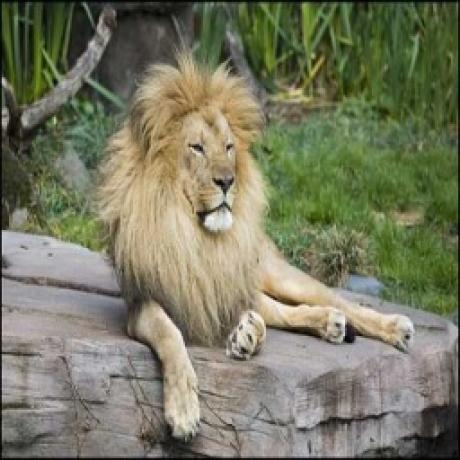Lion: (96, 56, 422, 444)
